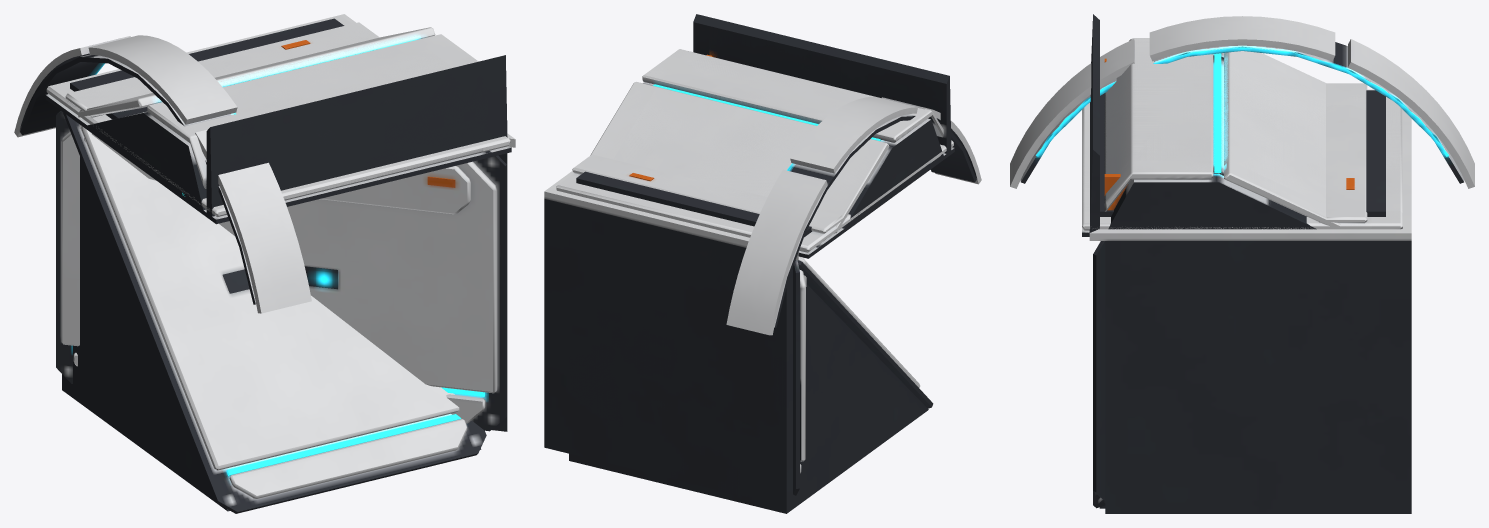
The model's file is R4H_HullKit.glb.
The picture shows the model from 3 angles, left to right: view 1: azimuth 30°, elevation 25°; view 2: azimuth 150°, elevation 25°; view 3: azimuth 270°, elevation 25°; orthographic projection. The views are drawn at different scales.
Parts seen in each view (by area): view 1: ramp, cheek, nose_0, lip, nose_1, nose_2, nose_3, plate_08, plate_03, plate_11, plate_10, gasket (+5 smaller); view 2: cheek, ramp, nose_0, nose_2, lip, nose_1, nose_3, gasket, plate_01, plate_02, plate_07, plate_05 (+4 smaller); view 3: cheek, nose_1, nose_0, lip, nose_2, nose_3, plate_01, gasket, plate_04, plate_12, plate_03, plate_02 (+4 smaller).
Part boxes in pixels (box(x1,y1,x2,y2)): ramp: box(62, 112, 486, 513); cheek: box(48, 14, 515, 431); nose_0: box(123, 34, 488, 190); lip: box(14, 35, 311, 313); nose_1: box(206, 27, 507, 190); nose_2: box(78, 38, 487, 218); nose_3: box(80, 27, 507, 209); plate_08: box(123, 39, 491, 206); plate_03: box(72, 22, 378, 121); plate_11: box(68, 23, 510, 223); plate_10: box(57, 39, 491, 224); gasket: box(70, 18, 344, 119); cheek: box(544, 171, 806, 506); ramp: box(569, 211, 933, 513); nose_0: box(613, 18, 931, 209); nose_2: box(614, 19, 951, 232); lip: box(726, 96, 981, 335); nose_1: box(590, 14, 932, 208); nose_3: box(591, 14, 949, 233); gasket: box(576, 171, 812, 237); plate_01: box(571, 154, 763, 213); plate_02: box(623, 154, 940, 251); plate_07: box(557, 174, 820, 258); plate_05: box(556, 173, 751, 237); cheek: box(1089, 110, 1411, 513); nose_1: box(1089, 24, 1342, 232); nose_0: box(1090, 23, 1325, 212); lip: box(1010, 16, 1474, 188); nose_2: box(1090, 15, 1325, 211); nose_3: box(1090, 14, 1340, 224); plate_01: box(1306, 105, 1371, 225); gasket: box(1100, 90, 1385, 216); plate_04: box(1386, 101, 1402, 210); plate_12: box(1082, 102, 1402, 212); plate_03: box(1116, 83, 1371, 229); plate_02: box(1326, 83, 1369, 189).
Bounding box in the file's own units: 0.565 × 0.704 × 0.7969.
Materials: 1 (1 with a texture image).
